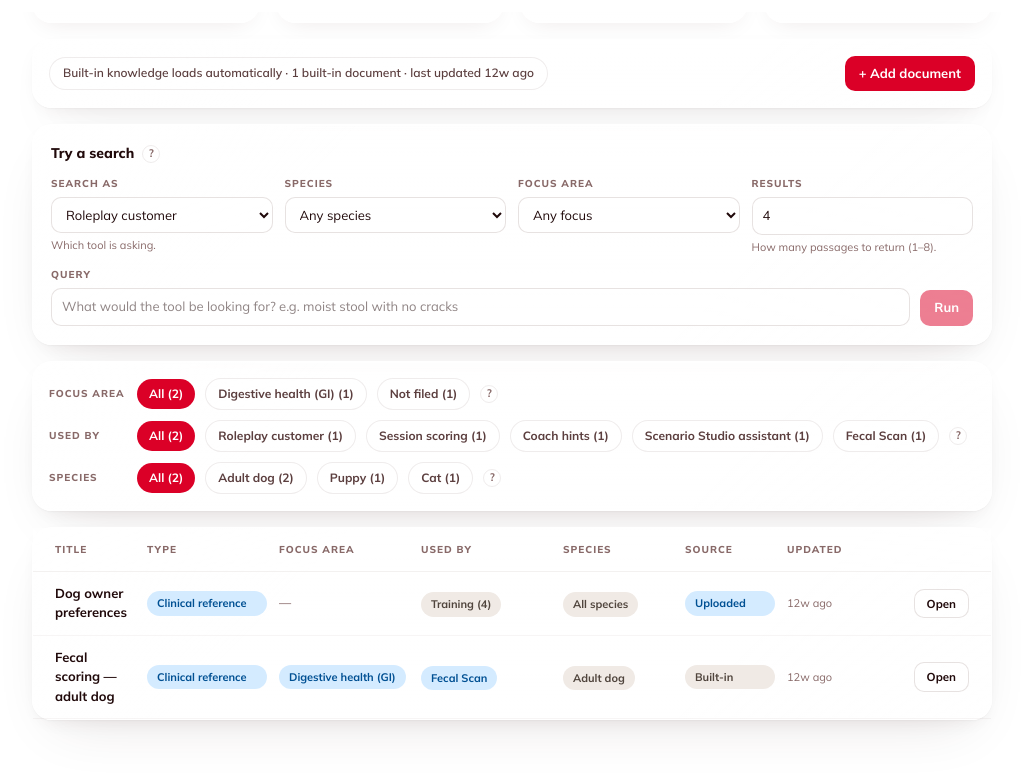
it: scope filters › narrows the list to one tool
(page scrolled)
Check: the text "Dog owner preferences" is shown, box [55, 584, 135, 623]
Click the button "Fecal Scan (1)" at x=886, y=436, box [833, 420, 939, 452]
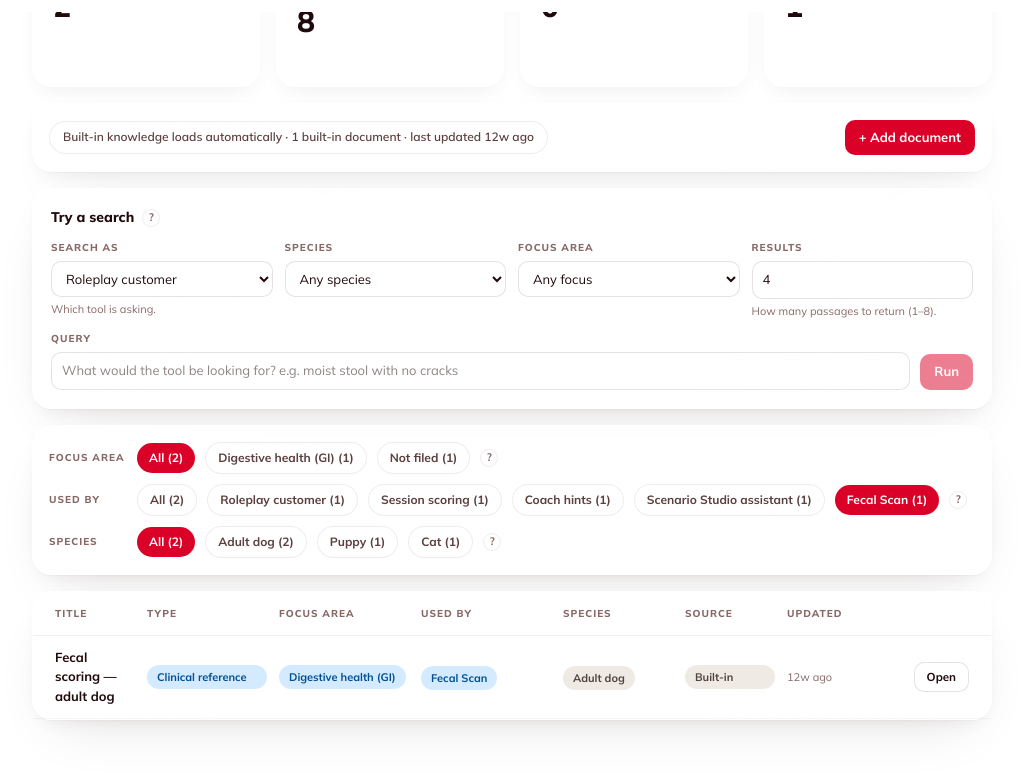
Check: the text "Fecal scoring — adult dog" is shown, box [55, 649, 117, 704]
Check: the button "Dog owner preferences" is gone
